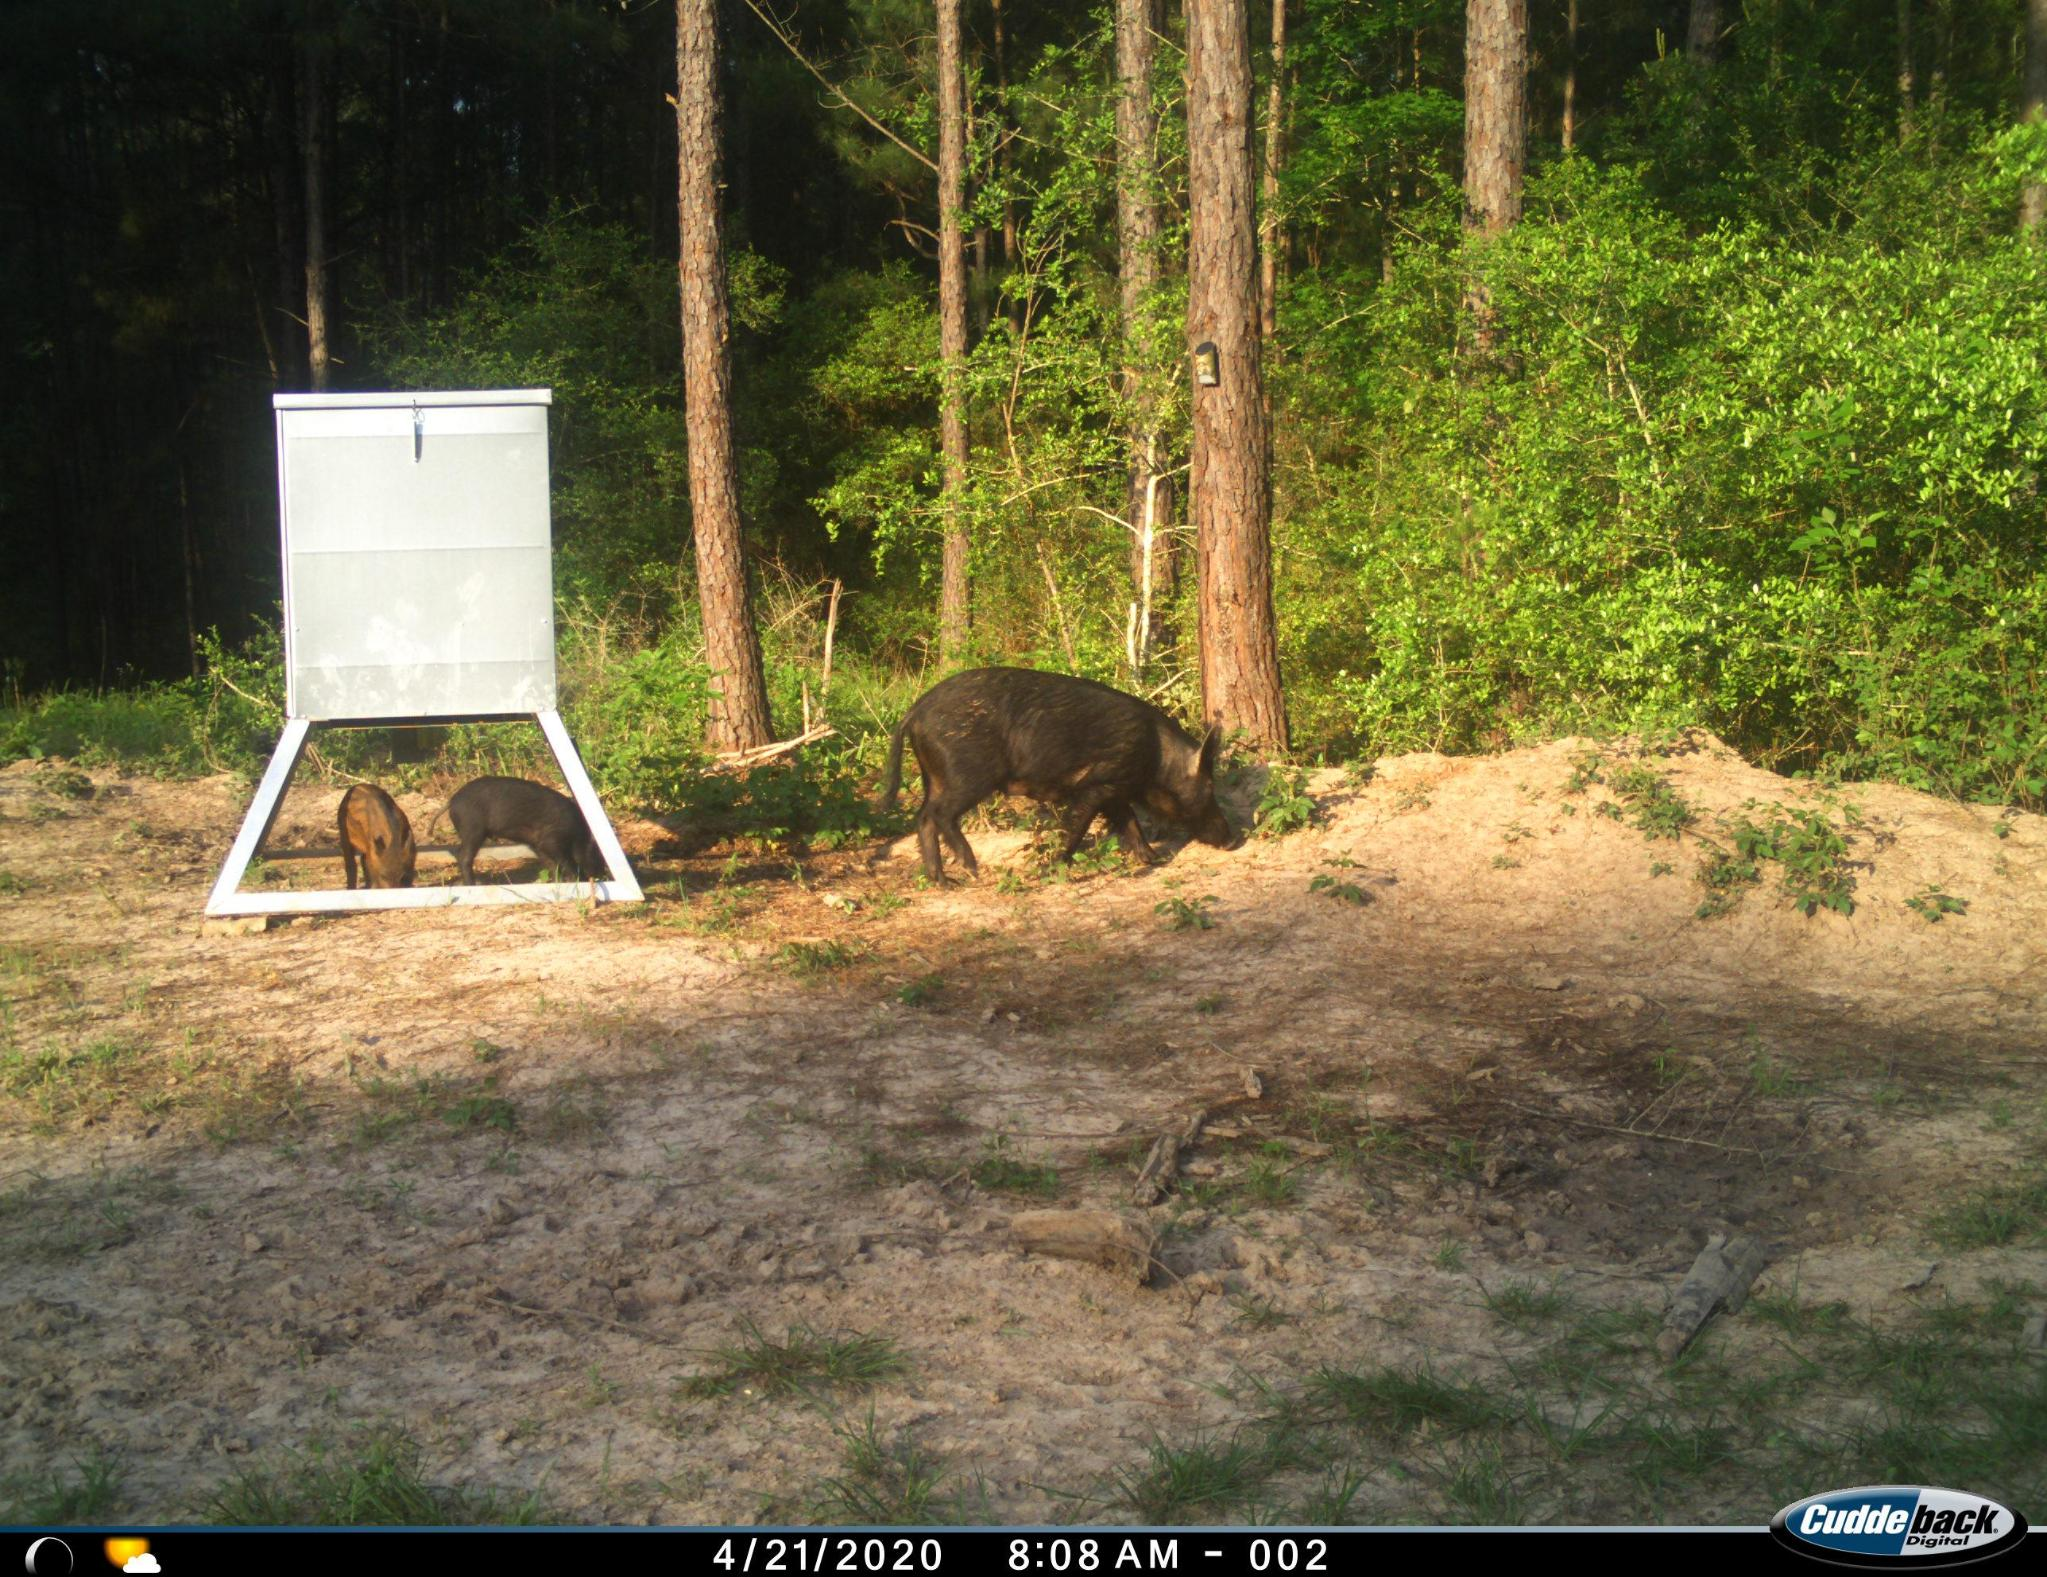Hog: (873, 659, 1245, 893), (434, 769, 616, 891), (321, 775, 429, 888)
